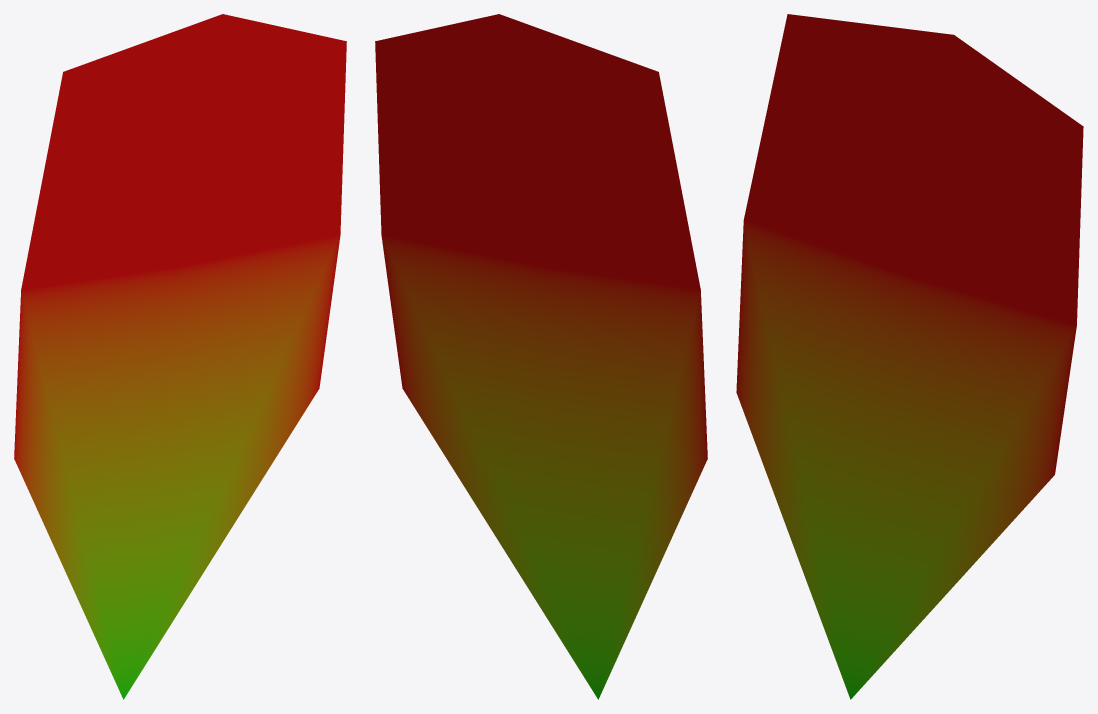
The model's file is Rose Hip_LOD5_Var9.fbx.
3 renders of one model, left to right at view 1: azimuth 30°, elevation 25°; view 2: azimuth 150°, elevation 25°; view 3: azimuth 330°, elevation 25°, orthographic. The views are drawn at different scales.
Parts seen in each view (by area): view 1: _onh7_Var9_LOD5; view 2: _onh7_Var9_LOD5; view 3: _onh7_Var9_LOD5.
Part boxes in pixels (x1,y1,x2,y2): _onh7_Var9_LOD5: (14,14,346,699); _onh7_Var9_LOD5: (375,14,707,699); _onh7_Var9_LOD5: (736,14,1083,699).
Bounding box in the file's own units: 61.73 × 117 × 1.75e-10.
